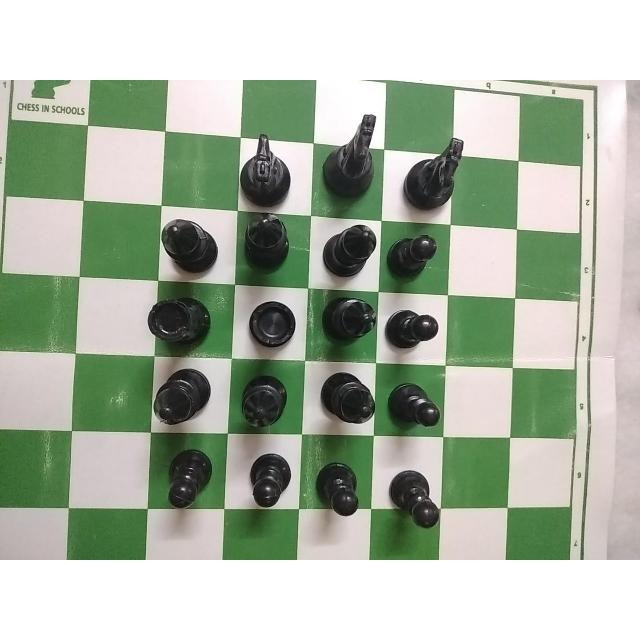black-bishop: (154, 206, 224, 279), (146, 366, 213, 432), (316, 216, 377, 284), (242, 208, 297, 282), (318, 372, 376, 437), (233, 372, 291, 436), (325, 296, 377, 354)
black-knight: (313, 111, 384, 199), (396, 136, 466, 211), (236, 132, 294, 214)
black-pawn: (163, 443, 217, 521), (312, 455, 373, 523), (393, 456, 446, 531), (381, 297, 446, 358), (243, 445, 292, 519), (384, 231, 440, 281), (390, 388, 445, 438)
black-rook: (145, 295, 219, 357), (244, 291, 305, 361)
